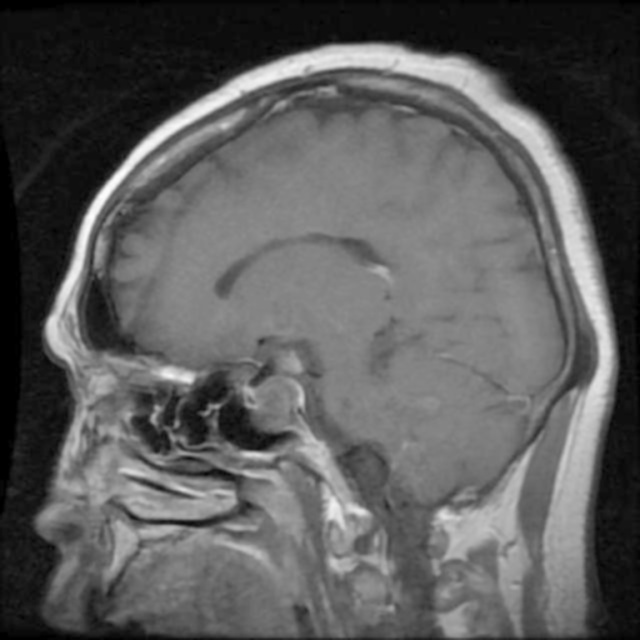no tumor: (244, 367, 322, 432)
